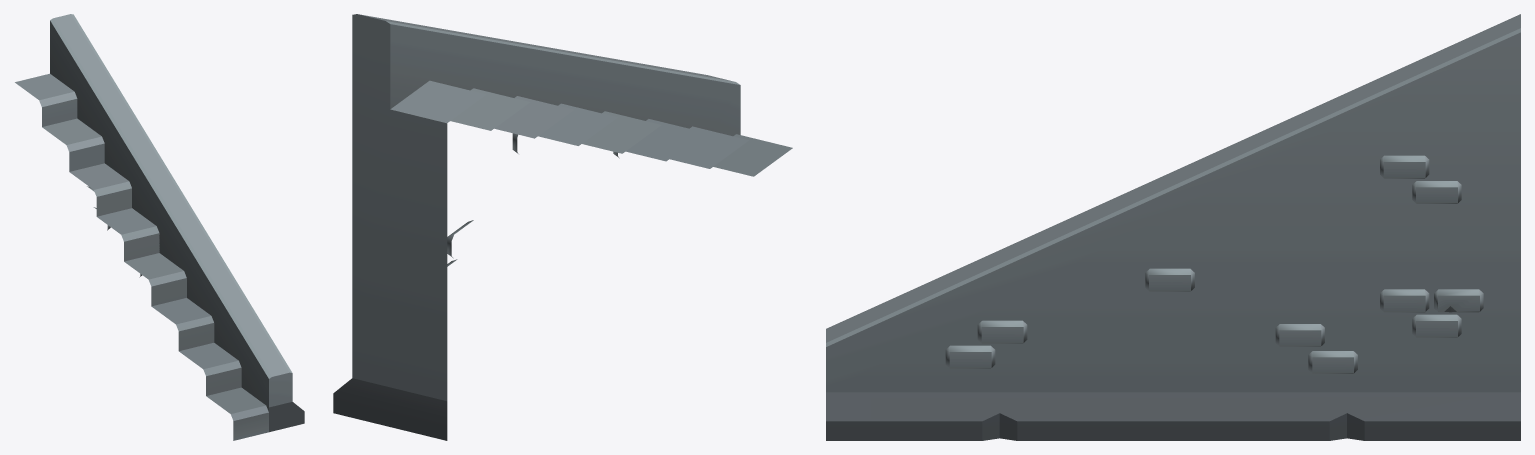
File: stairs_long_modular_right.glb
3 renders of one model, left to right at view 1: azimuth 30°, elevation 25°; view 2: azimuth 150°, elevation 25°; view 3: azimuth 270°, elevation 25°, orthographic. The views are drawn at different scales.
Visible parts, largest first — view 1: stairs_long_modular_right; view 2: stairs_long_modular_right; view 3: stairs_long_modular_right.
Boxes of the visible parts, bbox=[...] form: stairs_long_modular_right: bbox=[15, 14, 304, 440]; stairs_long_modular_right: bbox=[333, 14, 792, 440]; stairs_long_modular_right: bbox=[826, 14, 1520, 440].
Bounding box in the file's own units: 1.5 × 5.1 × 8.
1 material, 1 textured.
